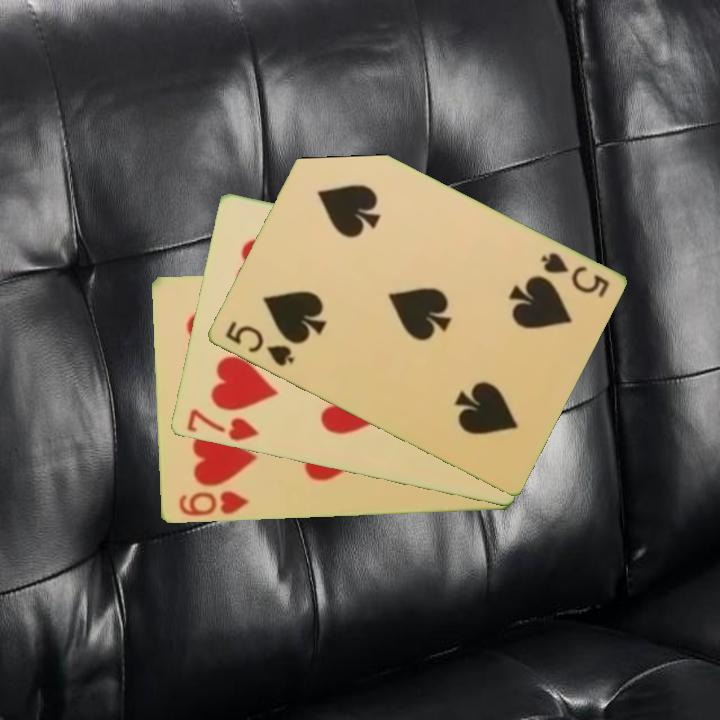5s: (221, 317, 297, 370), (536, 249, 612, 301)
6h: (175, 487, 252, 520)
7h: (182, 406, 261, 445)
